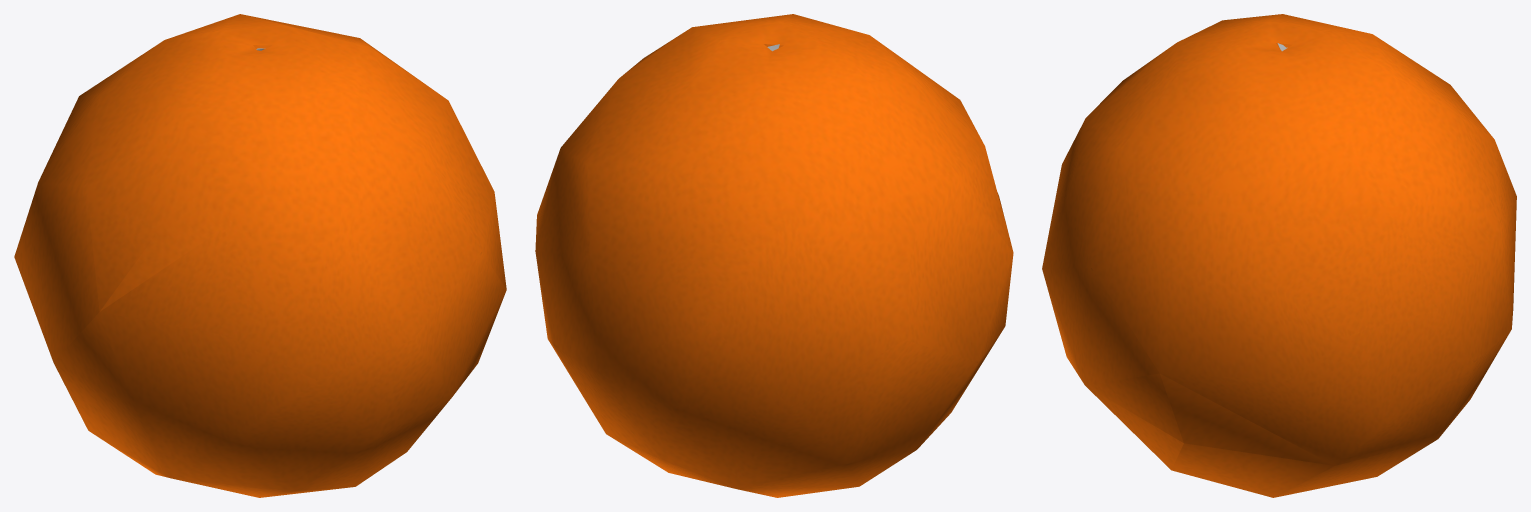
Rendered from orange1_lod.obj.
The picture shows the model from 3 angles, left to right: view 1: azimuth 30°, elevation 25°; view 2: azimuth 150°, elevation 25°; view 3: azimuth 270°, elevation 25°; orthographic projection.
Visible parts, largest first — view 1: Orange; view 2: Orange; view 3: Orange.
Boxes of the visible parts, x1,y1,x2,y2 form: Orange: (14, 14, 506, 497); Orange: (535, 14, 1013, 497); Orange: (1042, 14, 1516, 497).
Bounding box in the file's own units: 0.4493 × 0.4422 × 0.4469.
2 materials, 1 textured.
